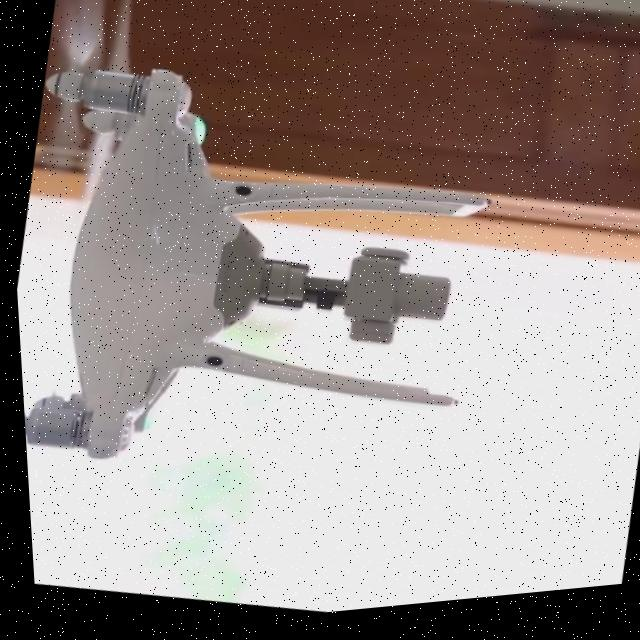drones: (2, 0, 558, 563)
